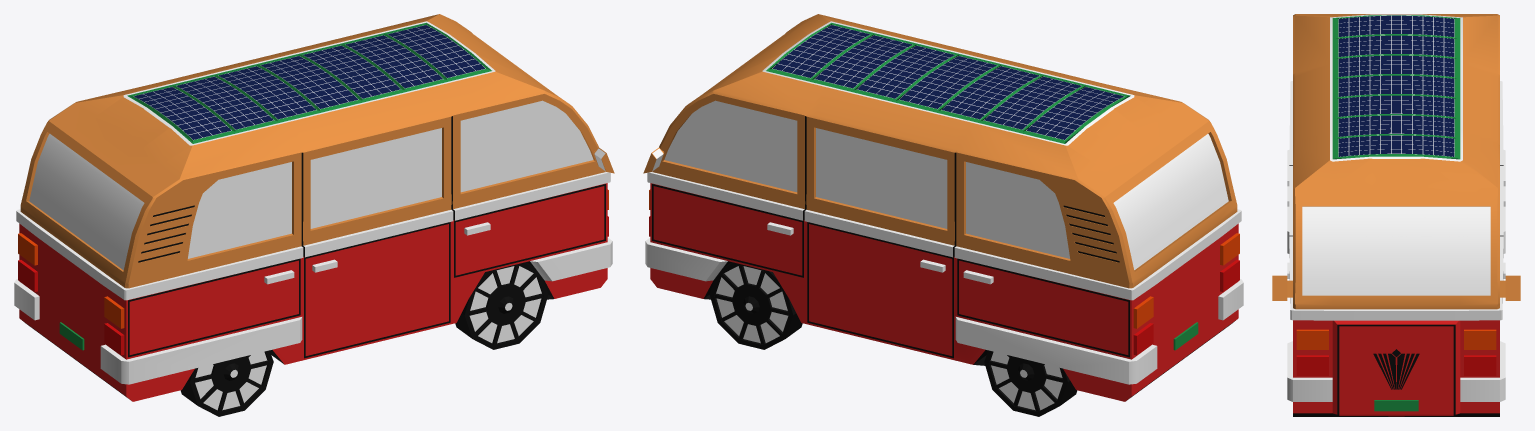
File: CarV2.FBX
3 renders of one model, left to right at view 1: azimuth 30°, elevation 25°; view 2: azimuth 150°, elevation 25°; view 3: azimuth 270°, elevation 25°, orthographic. The views are drawn at different scales.
Visible parts, largest first — view 1: Car, FrontWheels, BackWheels; view 2: Car, FrontWheels, BackWheels; view 3: Car.
Part boxes in pixels (x1,y1,x2,y2): Car: [14, 14, 614, 401]; FrontWheels: [455, 262, 548, 349]; BackWheels: [180, 350, 273, 416]; Car: [643, 14, 1243, 401]; FrontWheels: [709, 262, 802, 349]; BackWheels: [984, 350, 1077, 416]; Car: [1272, 14, 1520, 416].
Bounding box in the file's own units: 294 × 151 × 133.
